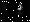person: (17, 4, 24, 16)
